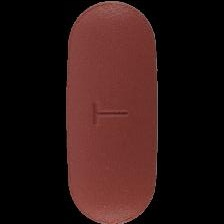65862-536: (0, 0, 224, 224)
